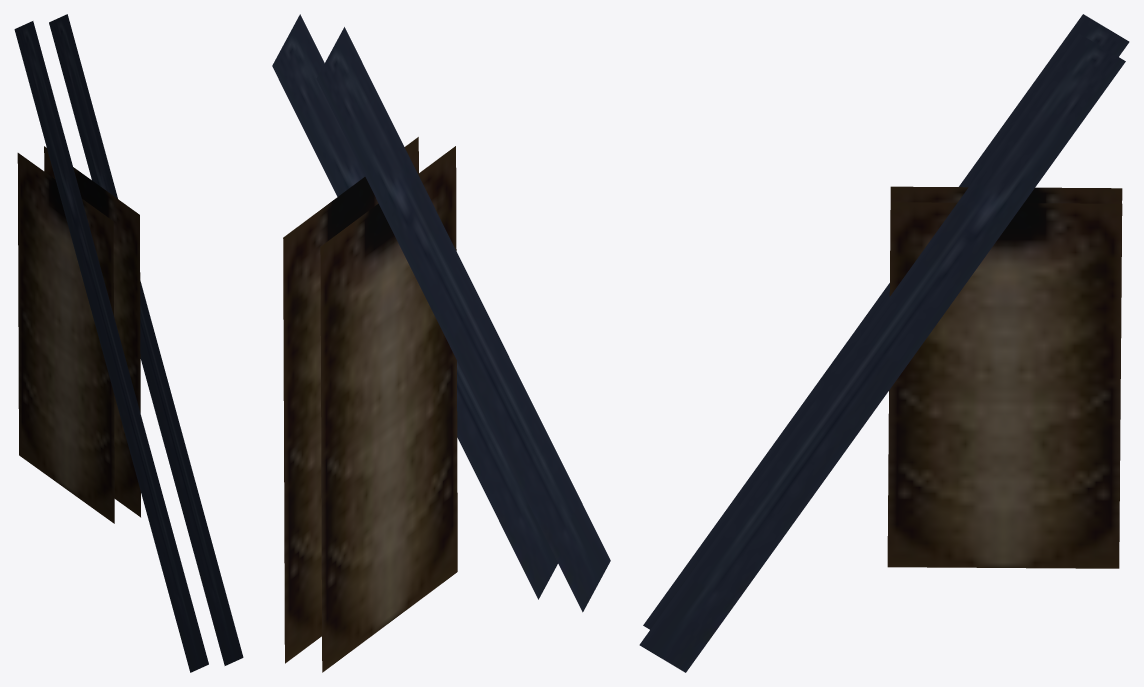
Rendered from sign1_eng_b_icon_tailor.fbx.
3 renders of one model, left to right at view 1: azimuth 30°, elevation 25°; view 2: azimuth 150°, elevation 25°; view 3: azimuth 270°, elevation 25°, orthographic. The views are drawn at different scales.
Parts seen in each view (by area): view 1: icon_thread, icon_needle; view 2: icon_thread, icon_needle; view 3: icon_thread, icon_needle.
Boxes of the visible parts, x1,y1,x2,y2 form: icon_thread: [17, 146, 140, 523]; icon_needle: [14, 14, 243, 672]; icon_thread: [283, 137, 457, 672]; icon_needle: [272, 14, 610, 612]; icon_thread: [887, 186, 1122, 568]; icon_needle: [639, 14, 1129, 672].
Size of the model in its own units: 25 by 322 by 222.
Materials: 1 (1 with a texture image).
